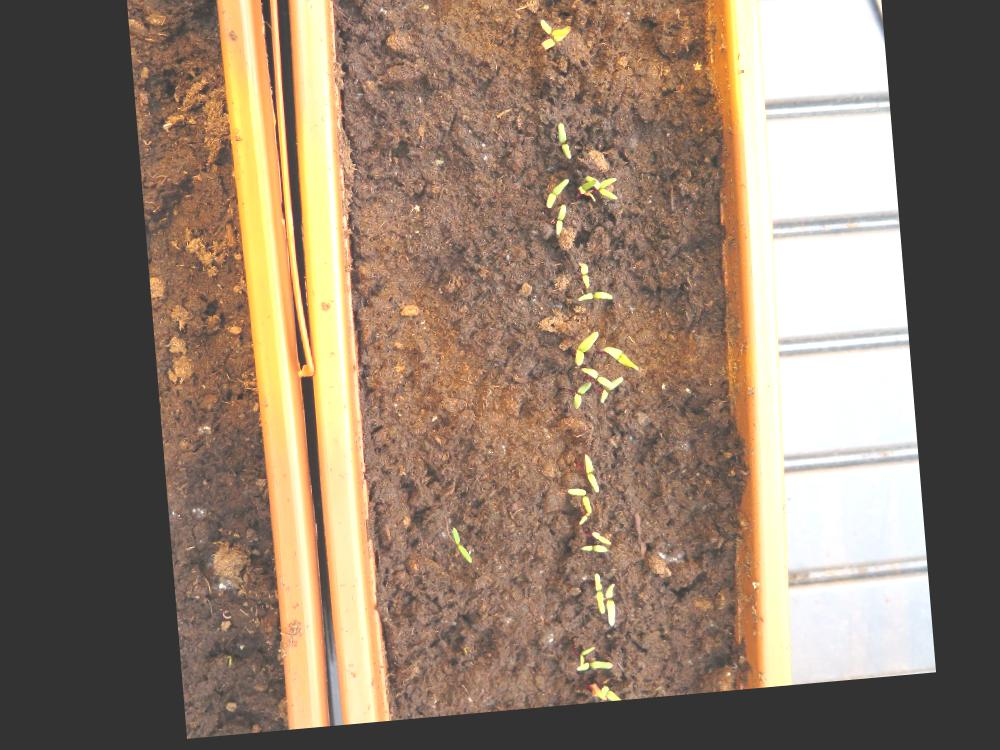crop: (595, 354, 634, 383), (565, 339, 595, 375), (575, 462, 593, 504), (592, 591, 608, 636), (563, 390, 586, 419), (554, 130, 569, 170), (548, 212, 565, 245), (571, 299, 608, 313), (583, 580, 595, 623), (572, 270, 587, 298)
weed: (440, 531, 463, 572)
